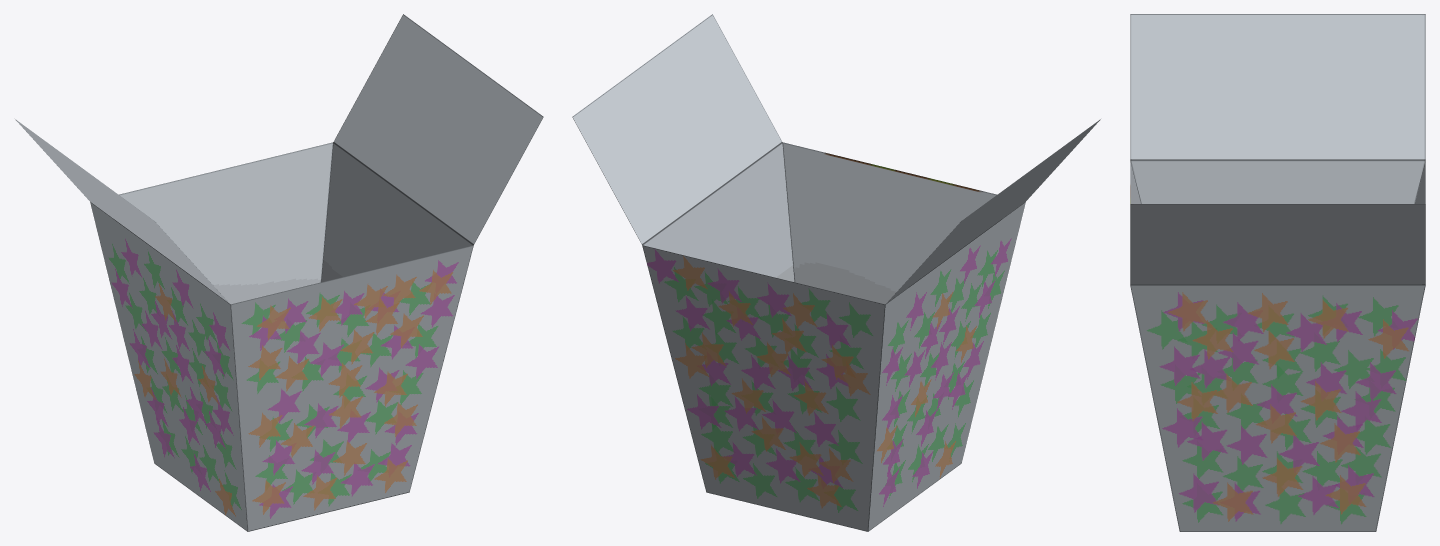
File: TakeAwayBox.fbx
The picture shows the model from 3 angles, left to right: view 1: azimuth 30°, elevation 25°; view 2: azimuth 150°, elevation 25°; view 3: azimuth 270°, elevation 25°; orthographic projection. The views are drawn at different scales.
Visible parts, largest first — view 1: Cube; view 2: Cube; view 3: Cube.
Part boxes in pixels (x1,y1,x2,y2): Cube: [15, 14, 543, 531]; Cube: [572, 14, 1100, 531]; Cube: [1130, 14, 1425, 531].
Size of the model in its own units: 320 by 287 by 200.
